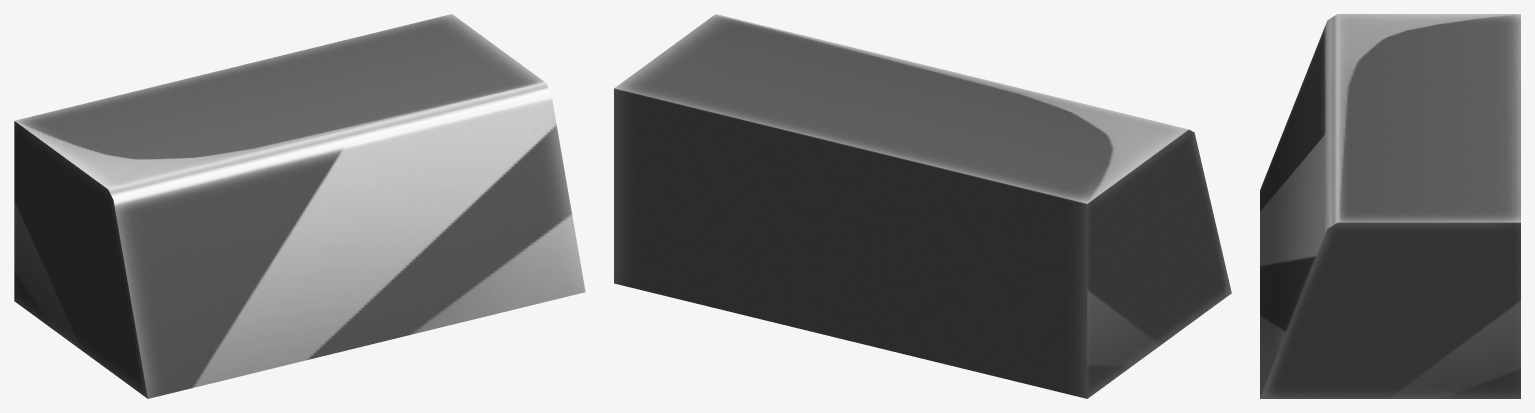
The model's file is scenes_construction_coinglass01.FBX.
3 views of the same model, side by side, from view 1: azimuth 30°, elevation 25°; view 2: azimuth 150°, elevation 25°; view 3: azimuth 270°, elevation 25° (orthographic). The views are drawn at different scales.
Parts seen in each view (by area): view 1: scenes_construction_coinglass01; view 2: scenes_construction_coinglass01; view 3: scenes_construction_coinglass01.
Boxes of the visible parts, x1,y1,x2,y2 form: scenes_construction_coinglass01: [14, 14, 585, 398]; scenes_construction_coinglass01: [614, 14, 1231, 398]; scenes_construction_coinglass01: [1260, 14, 1520, 398].
Size of the model in its own units: 1088 by 428 by 575.
